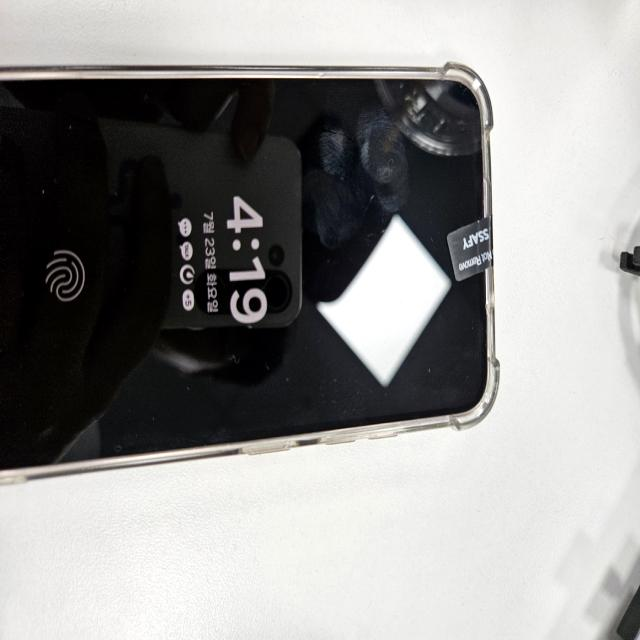phone: (1, 59, 501, 487)
sticker: (446, 215, 495, 282)
